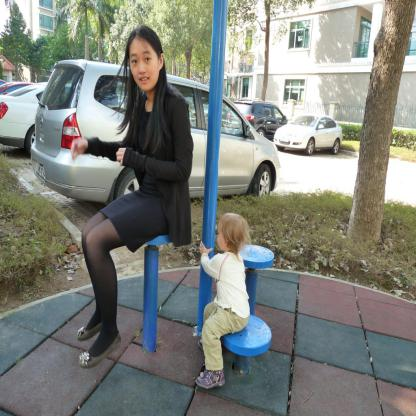Car: (0, 60, 287, 204), (274, 109, 348, 153)
